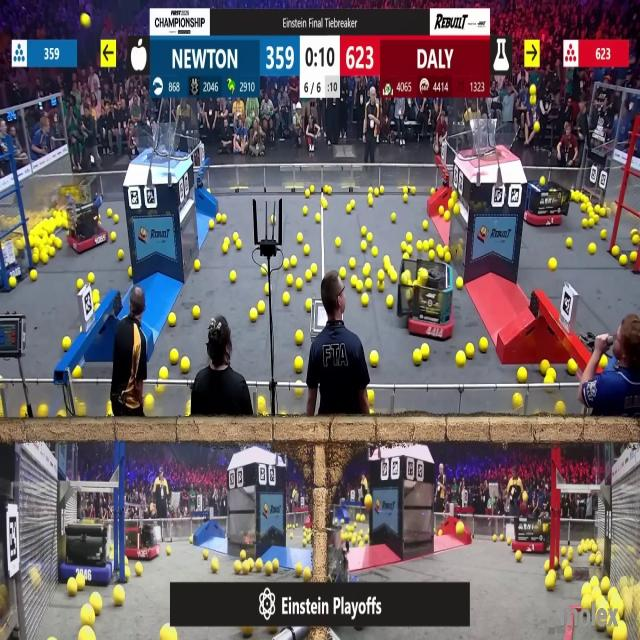ball_airborne: (81, 14, 89, 27), (530, 86, 536, 96), (533, 121, 539, 131), (522, 492, 528, 502), (530, 96, 536, 105)
ball_ground: (80, 606, 94, 626), (92, 594, 102, 614), (113, 588, 124, 606), (544, 573, 554, 590), (144, 395, 154, 412), (180, 356, 189, 372), (80, 628, 92, 640), (68, 581, 77, 597), (518, 367, 528, 381), (514, 393, 524, 407), (556, 403, 566, 417), (259, 400, 267, 417), (38, 406, 48, 419), (162, 627, 172, 640), (293, 357, 302, 371), (457, 352, 466, 366), (601, 580, 610, 594), (568, 359, 576, 374), (369, 351, 377, 366), (466, 344, 474, 359), (243, 626, 253, 638), (581, 595, 590, 608), (76, 579, 85, 592), (191, 306, 199, 320), (169, 313, 177, 327), (63, 338, 71, 352), (235, 560, 243, 574), (414, 350, 422, 364), (400, 272, 409, 284), (171, 350, 179, 363), (421, 346, 429, 359), (242, 561, 250, 574), (547, 367, 555, 380), (456, 523, 464, 536), (76, 407, 85, 418), (295, 332, 302, 346), (161, 366, 169, 378), (550, 260, 558, 272), (362, 266, 370, 278), (564, 569, 572, 581), (18, 409, 26, 421), (250, 309, 257, 322), (481, 339, 488, 352), (600, 355, 607, 368), (294, 563, 301, 576), (366, 390, 373, 403), (267, 562, 274, 575), (74, 365, 82, 376), (630, 251, 638, 262), (438, 245, 446, 256), (283, 292, 290, 304), (361, 293, 368, 305), (387, 295, 394, 307), (212, 559, 218, 573), (255, 560, 262, 572), (136, 563, 143, 575), (390, 272, 397, 284), (540, 359, 547, 371), (351, 276, 358, 288), (304, 568, 311, 580), (378, 271, 386, 281), (286, 276, 294, 286), (290, 256, 297, 267), (364, 279, 371, 290), (349, 257, 356, 268), (356, 282, 363, 293), (583, 585, 590, 596), (258, 302, 264, 314), (307, 300, 313, 312), (360, 240, 366, 252), (274, 560, 280, 572), (94, 291, 100, 303), (59, 411, 67, 420), (588, 206, 596, 215), (591, 576, 599, 585), (9, 278, 16, 288), (611, 246, 618, 256), (621, 255, 628, 265), (445, 252, 452, 262), (378, 281, 385, 291), (158, 384, 165, 394), (457, 278, 463, 289), (31, 271, 37, 282), (341, 268, 347, 279), (90, 273, 96, 284), (516, 552, 522, 563), (231, 272, 237, 283), (312, 265, 318, 276), (295, 279, 301, 290), (284, 260, 290, 271), (590, 243, 596, 254), (117, 249, 123, 260), (77, 279, 83, 290), (220, 214, 227, 223), (193, 262, 199, 272), (296, 234, 302, 244), (316, 213, 322, 223), (336, 238, 342, 248), (307, 272, 313, 282), (566, 238, 572, 248), (400, 242, 406, 252), (543, 561, 549, 571), (445, 211, 451, 221), (428, 250, 434, 260), (56, 240, 62, 250), (42, 253, 48, 263), (360, 226, 366, 236), (422, 240, 428, 250), (123, 568, 129, 578), (562, 558, 568, 568), (454, 205, 460, 215), (448, 200, 454, 210), (107, 409, 113, 419), (543, 376, 550, 384), (422, 220, 428, 229), (390, 213, 396, 222), (633, 236, 639, 245), (33, 254, 39, 263), (554, 558, 560, 567), (583, 218, 589, 227), (324, 185, 330, 194), (363, 534, 369, 543), (539, 177, 545, 186), (305, 245, 310, 255), (205, 550, 210, 560), (408, 234, 413, 244), (241, 551, 246, 561), (222, 244, 227, 254), (418, 241, 423, 251), (49, 247, 54, 257), (408, 245, 413, 255), (402, 252, 408, 260), (110, 234, 116, 242), (402, 193, 408, 201), (384, 255, 390, 263), (222, 238, 228, 246), (594, 215, 600, 223), (452, 191, 458, 199), (259, 269, 265, 277), (561, 546, 567, 554), (430, 187, 436, 195), (371, 247, 376, 256), (601, 231, 606, 240), (237, 241, 242, 250), (266, 285, 271, 294), (322, 201, 327, 210), (347, 205, 352, 214), (366, 234, 371, 243), (440, 207, 445, 216), (568, 552, 573, 561), (492, 534, 498, 541), (295, 388, 301, 395), (402, 186, 408, 193), (579, 205, 585, 212), (129, 268, 133, 278), (304, 207, 309, 215), (113, 215, 118, 223), (368, 197, 372, 207), (351, 202, 356, 210), (595, 206, 600, 214), (311, 185, 316, 193), (234, 233, 238, 242), (381, 186, 385, 195), (48, 237, 52, 246), (412, 187, 417, 194), (506, 537, 511, 544), (210, 220, 214, 228), (108, 209, 112, 217), (216, 214, 220, 222), (166, 549, 170, 557), (368, 411, 373, 417), (306, 190, 310, 197), (500, 534, 504, 541), (376, 188, 380, 195), (438, 532, 442, 539), (356, 515, 360, 522), (188, 536, 192, 542)
goal: (466, 122, 520, 159), (128, 129, 188, 160)
robot_blue: (61, 519, 108, 581), (0, 214, 31, 284)
robot_red: (405, 257, 454, 340), (62, 180, 106, 253), (522, 177, 568, 225), (514, 515, 552, 552), (125, 520, 161, 559)
